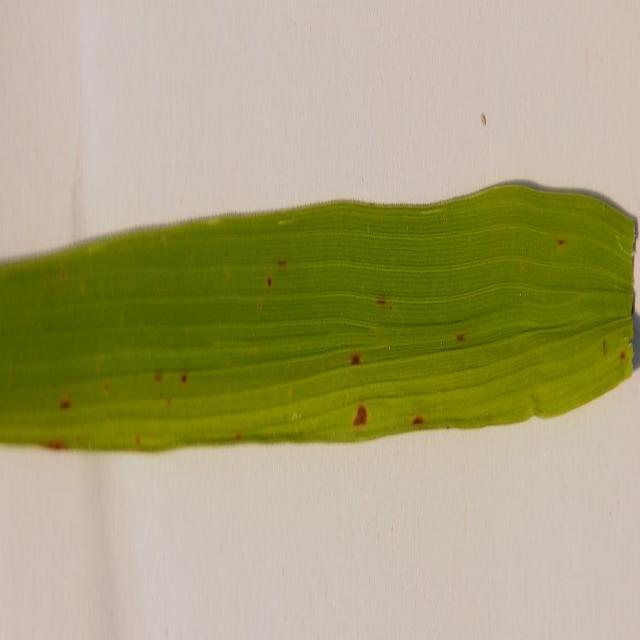Brown_Spot: (338, 308, 381, 437), (261, 231, 292, 295), (147, 365, 194, 395), (408, 382, 426, 446), (451, 319, 475, 353), (57, 377, 71, 423)
